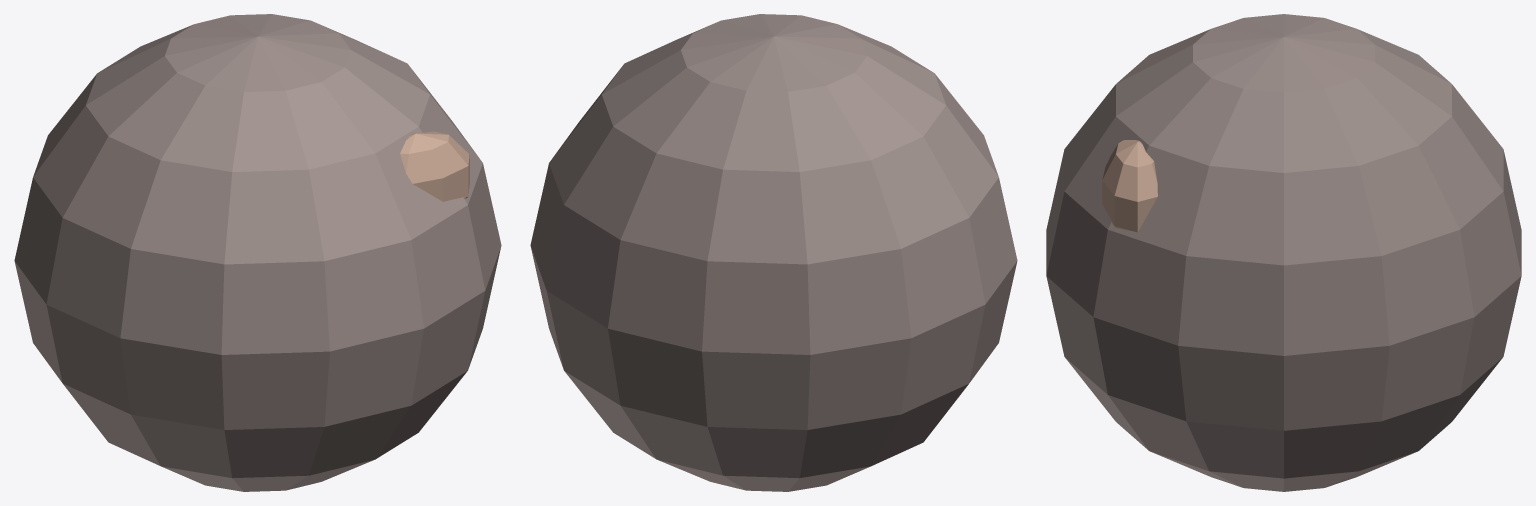
The model's file is roca_magma.glb.
The picture shows the model from 3 angles, left to right: view 1: azimuth 30°, elevation 25°; view 2: azimuth 150°, elevation 25°; view 3: azimuth 270°, elevation 25°; orthographic projection.
Parts seen in each view (by area): view 1: roca_magma; view 2: roca_magma; view 3: roca_magma.
Part boxes in pixels (x1,y1,x2,y2): roca_magma: (14, 14, 501, 491); roca_magma: (530, 14, 1017, 491); roca_magma: (1046, 14, 1521, 491).
Size of the model in its own units: 0.9 by 0.88 by 0.8774.
